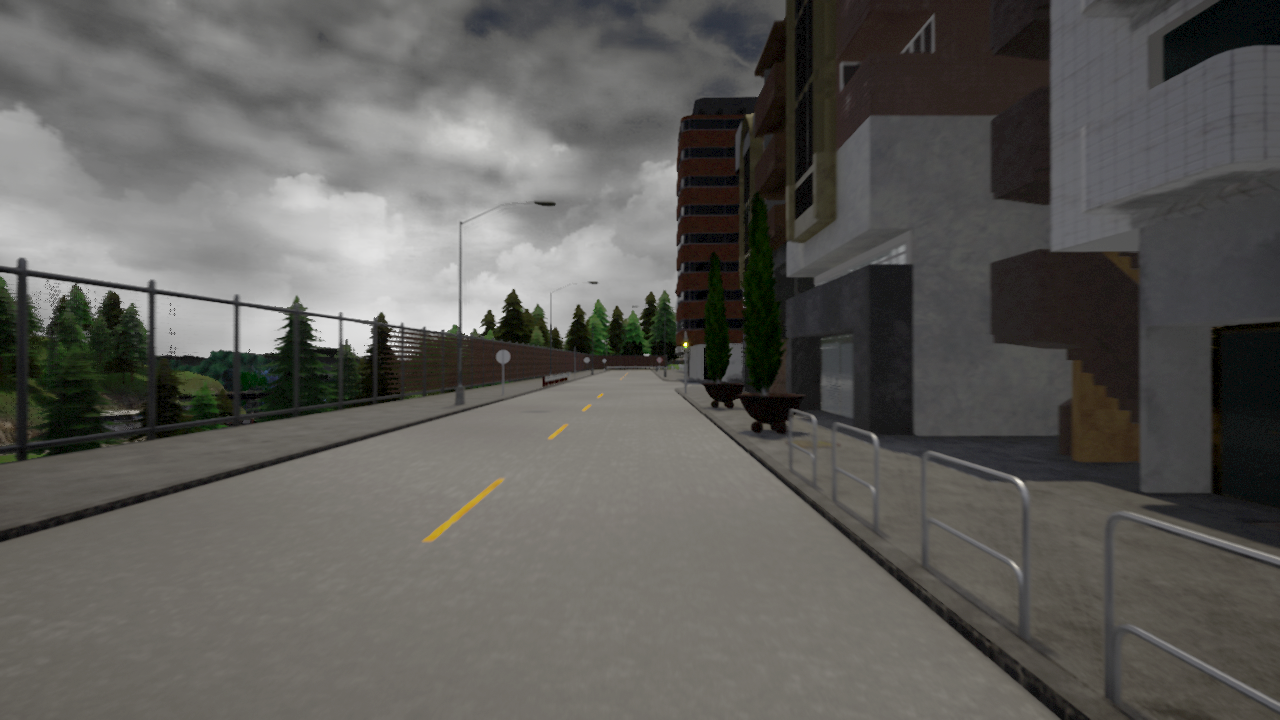yellow: (681, 336, 691, 358)
